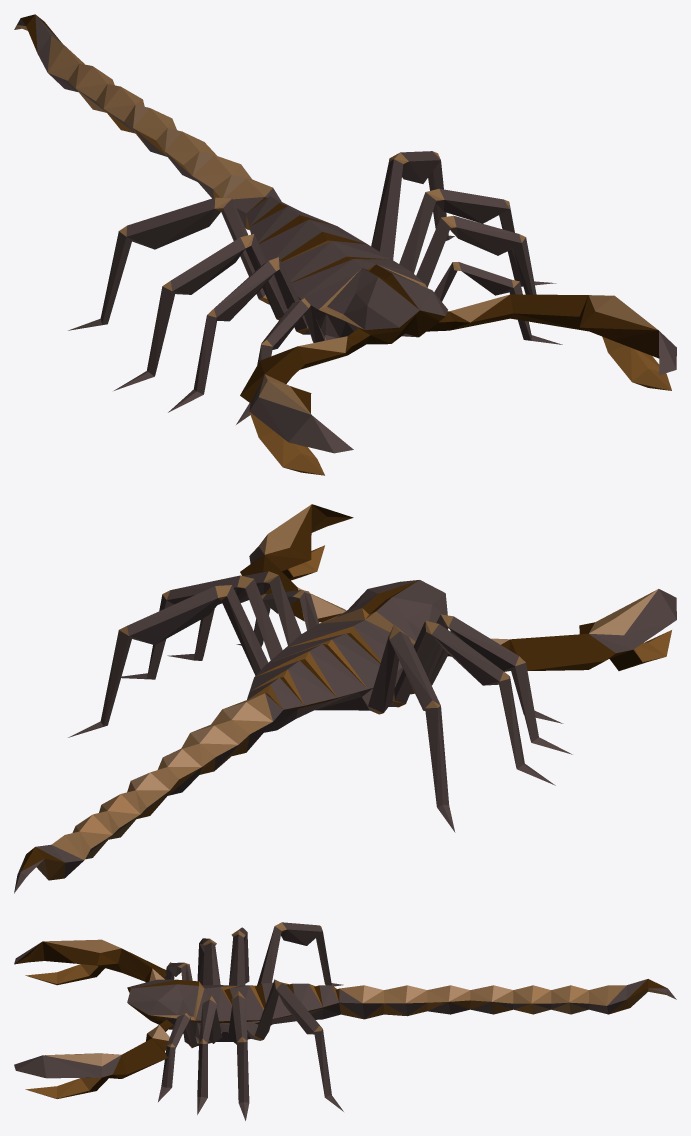
File: scorpion.gltf
The picture shows the model from 3 angles, top to bottom: view 1: azimuth 30°, elevation 25°; view 2: azimuth 150°, elevation 25°; view 3: azimuth 270°, elevation 25°; orthographic projection. The views are drawn at different scales.
Size of the model in its own units: 192 by 59 by 369.
Materials: 1 (1 with a texture image).
